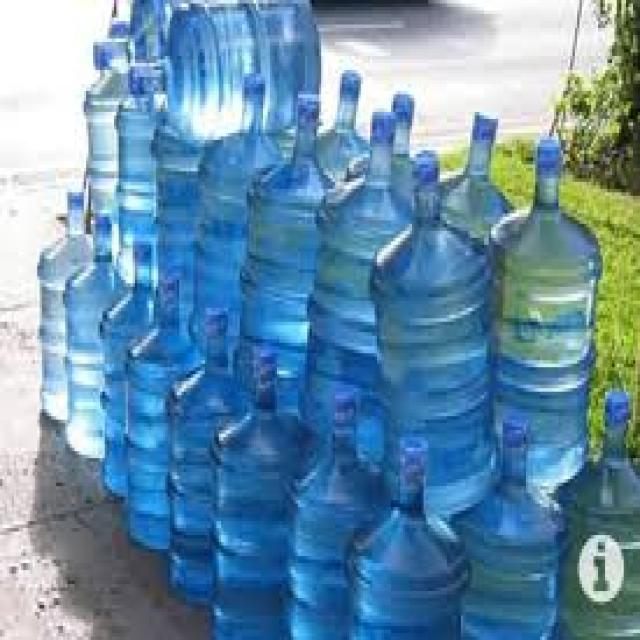Galon: (35, 0, 626, 637)
